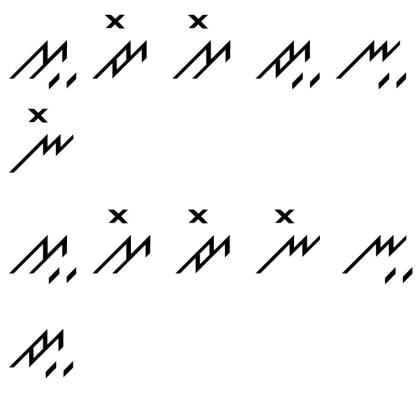jah: (252, 34, 324, 90), (6, 325, 74, 381)
jo: (170, 206, 233, 278), (89, 12, 150, 81)
nyah: (334, 27, 409, 90), (338, 227, 414, 289)
nyo: (2, 108, 80, 178), (252, 205, 325, 276)
sah: (8, 226, 81, 289), (8, 38, 79, 100)
so: (90, 207, 154, 278), (171, 10, 234, 80)
